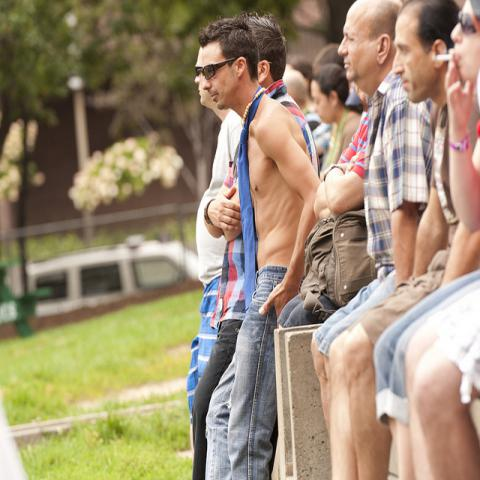truck: (3, 235, 197, 326)
